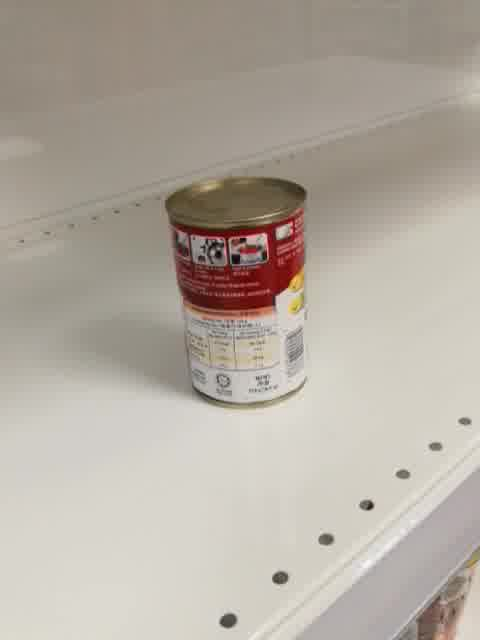tomatosoup: (163, 172, 312, 413)
